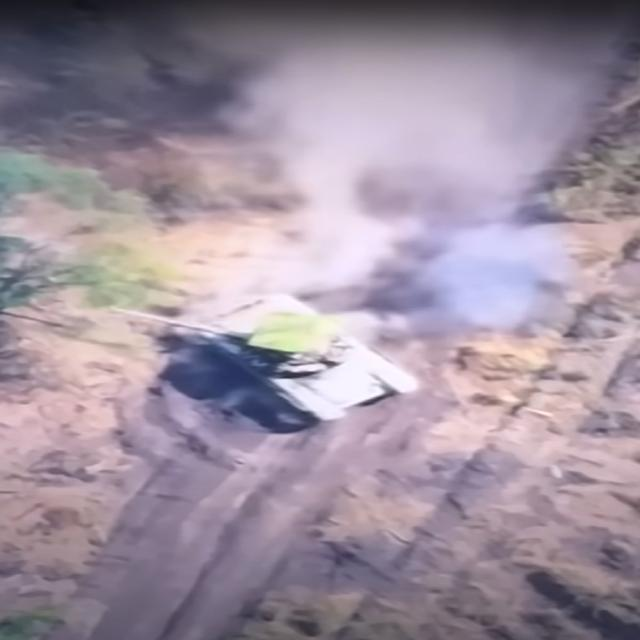MBT: (102, 291, 439, 424)
